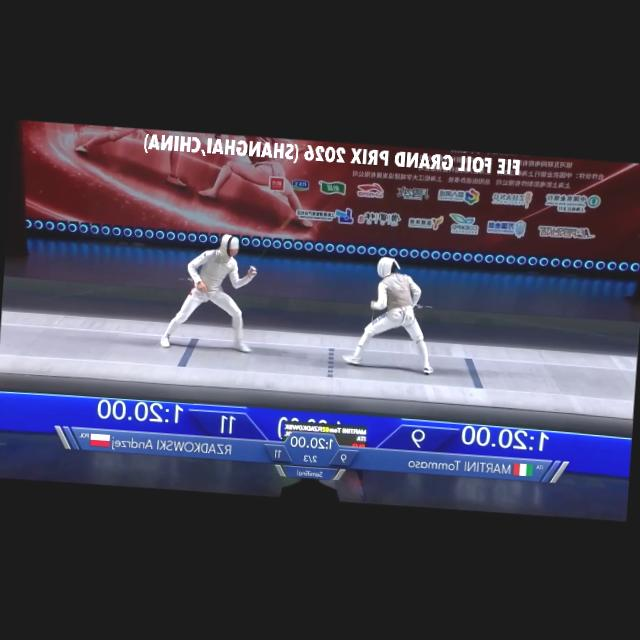blade: (248, 208, 299, 277), (368, 302, 375, 326)
